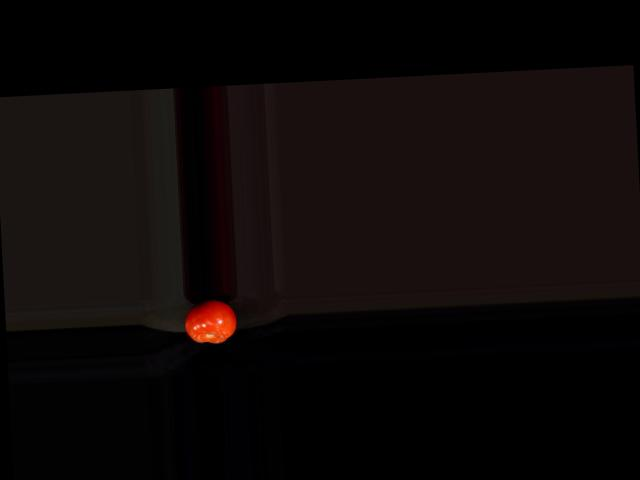tomato: (184, 299, 238, 344)
